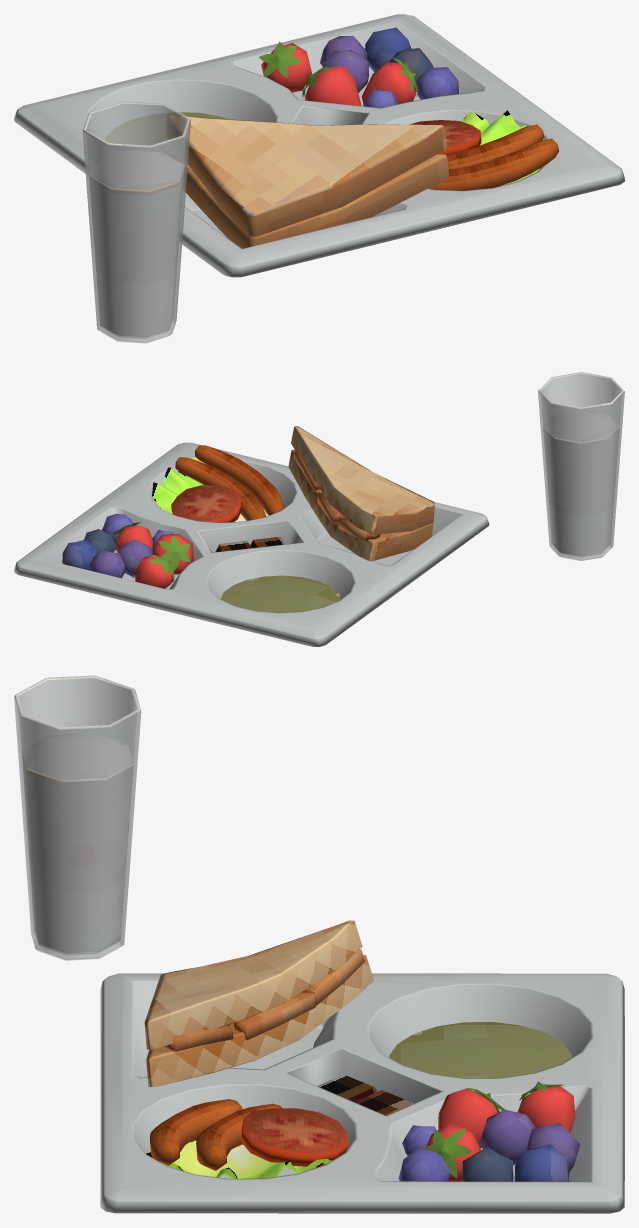
Rendered from a_sch_cafe01_lunch03.gltf.
3 renders of one model, top to bottom at view 1: azimuth 30°, elevation 25°; view 2: azimuth 150°, elevation 25°; view 3: azimuth 270°, elevation 25°, orthographic. The views are drawn at different scales.
Visible parts, largest first — view 1: um_a_sch_cafe01_lunch03_model_a_sch_cafe01_lunch03_modelShap (×8); view 2: um_a_sch_cafe01_lunch03_model_a_sch_cafe01_lunch03_modelShap (×8); view 3: um_a_sch_cafe01_lunch03_model_a_sch_cafe01_lunch03_modelShap (×8).
Part boxes in pixels (x1,y1,x2,y2): um_a_sch_cafe01_lunch03_model_a_sch_cafe01_lunch03_modelShap (×8): (14, 14, 624, 343); um_a_sch_cafe01_lunch03_model_a_sch_cafe01_lunch03_modelShap (×8): (14, 372, 624, 646); um_a_sch_cafe01_lunch03_model_a_sch_cafe01_lunch03_modelShap (×8): (14, 675, 624, 1213).
Bounding box in the file's own units: 0.4329 × 0.1539 × 0.3527.
8 materials, 8 textured.
